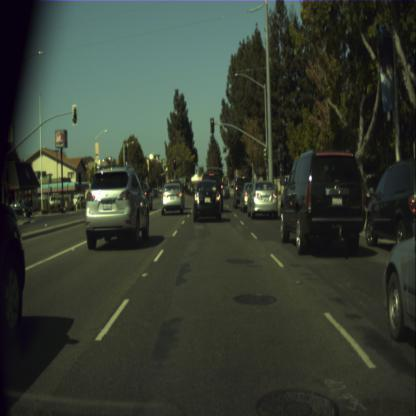Red: (210, 118, 213, 132), (172, 158, 176, 168), (216, 166, 218, 168), (210, 166, 211, 168)
